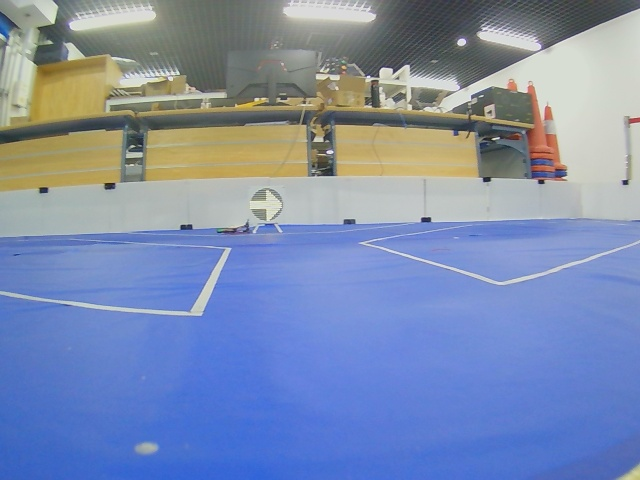right_yellow: (250, 188, 284, 223)
